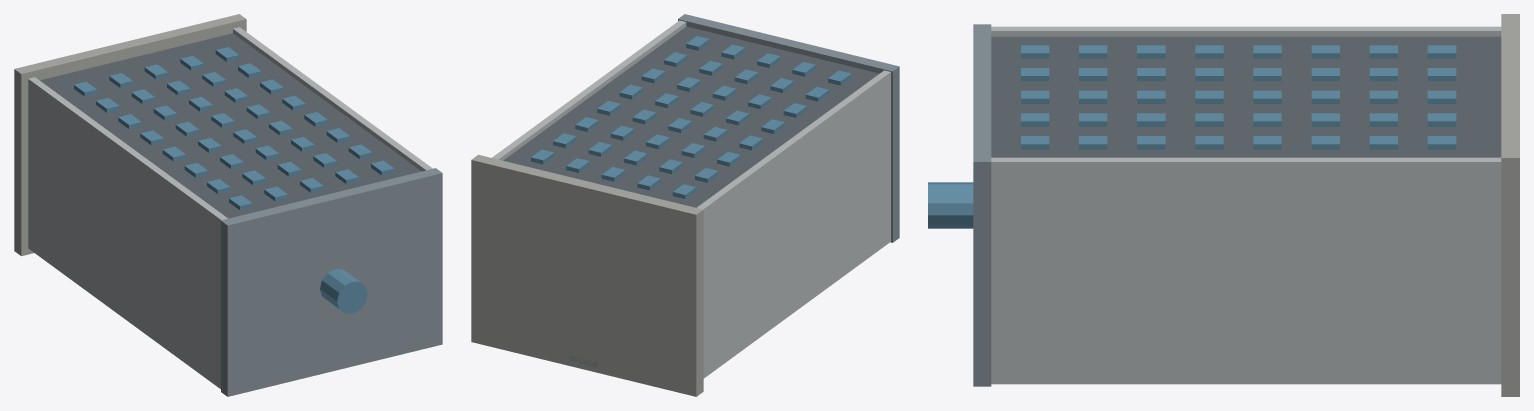
File: AGE_IX_residential.glb
3 renders of one model, left to right at view 1: azimuth 30°, elevation 25°; view 2: azimuth 150°, elevation 25°; view 3: azimuth 270°, elevation 25°, orthographic. The views are drawn at different scales.
Visible parts, largest first — view 1: world; view 2: world; view 3: world.
Part boxes in pixels (x1,y1,x2,y2): world: (14,14,442,396); world: (471,14,899,396); world: (928,14,1519,396).
Size of the model in its own units: 6.6 by 5.1 by 11.45.
